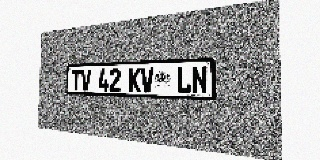2: (109, 68, 120, 92)
4: (98, 69, 109, 91)
K: (128, 68, 141, 92)
L: (176, 66, 191, 93)
N: (192, 66, 208, 94)
T: (72, 70, 81, 91)
V: (141, 67, 154, 93), (81, 69, 91, 91)
